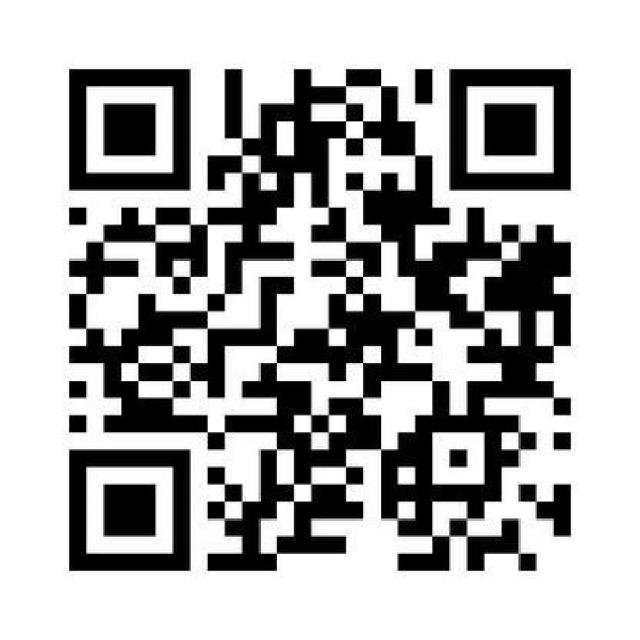QRCode: (60, 56, 584, 582)
